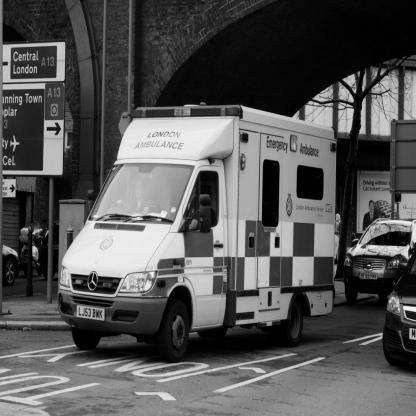ambulance: (56, 78, 345, 346)
